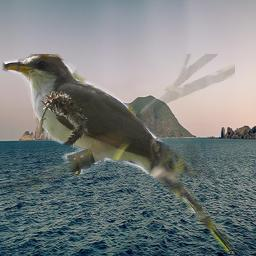Cuckoo: (2, 54, 235, 254)
